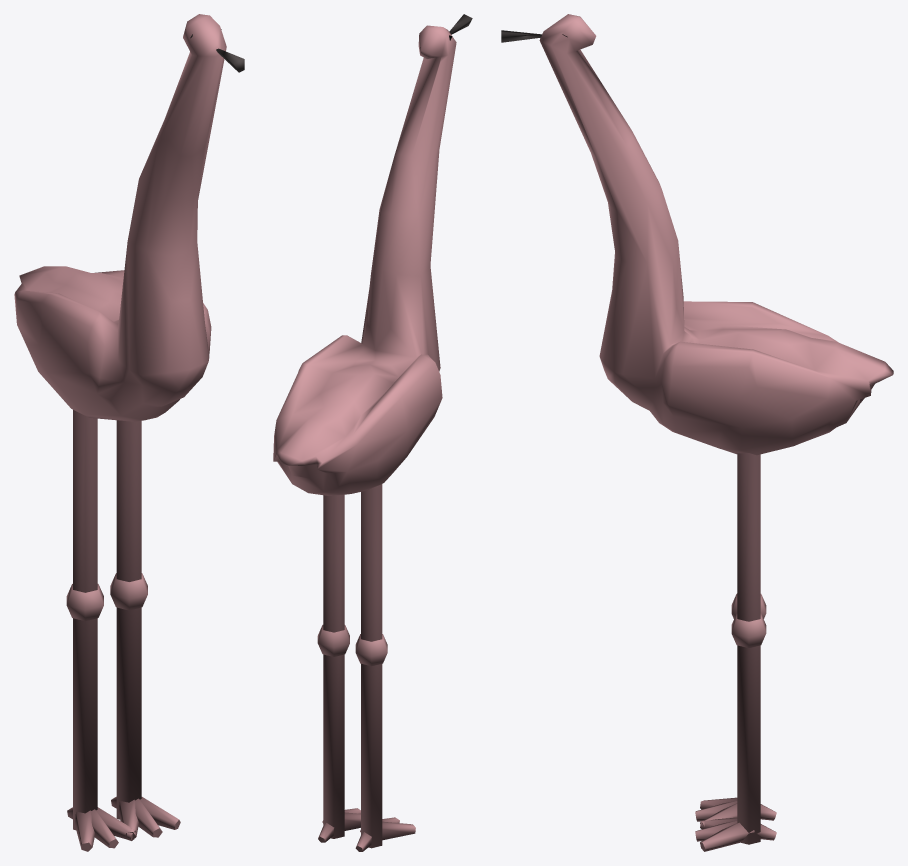
File: flamingo.glb
3 renders of one model, left to right at view 1: azimuth 30°, elevation 25°; view 2: azimuth 150°, elevation 25°; view 3: azimuth 270°, elevation 25°, orthographic. The views are drawn at different scales.
Parts seen in each view (by area): view 1: lack; view 2: lack; view 3: lack.
Part boxes in pixels (x1=…): lack: x1=14, y1=14, x2=244, y2=851; lack: x1=273, y1=14, x2=472, y2=851; lack: x1=501, y1=14, x2=893, y2=851.
Bounding box in the file's own units: 0.2073 × 1.3 × 0.5703.
